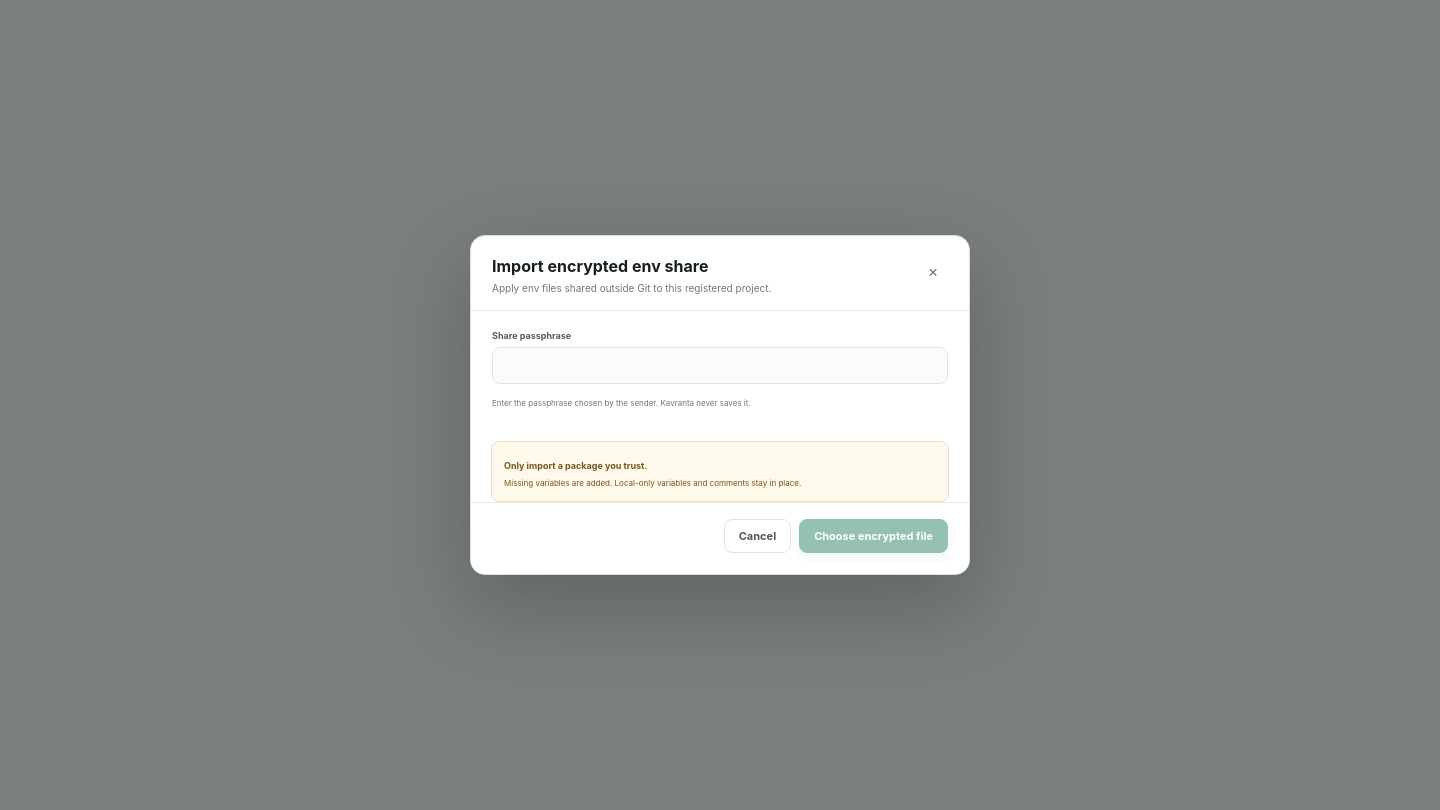
Test: ImportEnvModal › reveals only the requested conflict side and can remap an incoming file
The width and height of the screenshot is (1440, 810).
Type "fake-team-passphrase-2026" into the password field labelled "Share passphrase". click: coordinates (720, 366)
box: [492,347,948,384]
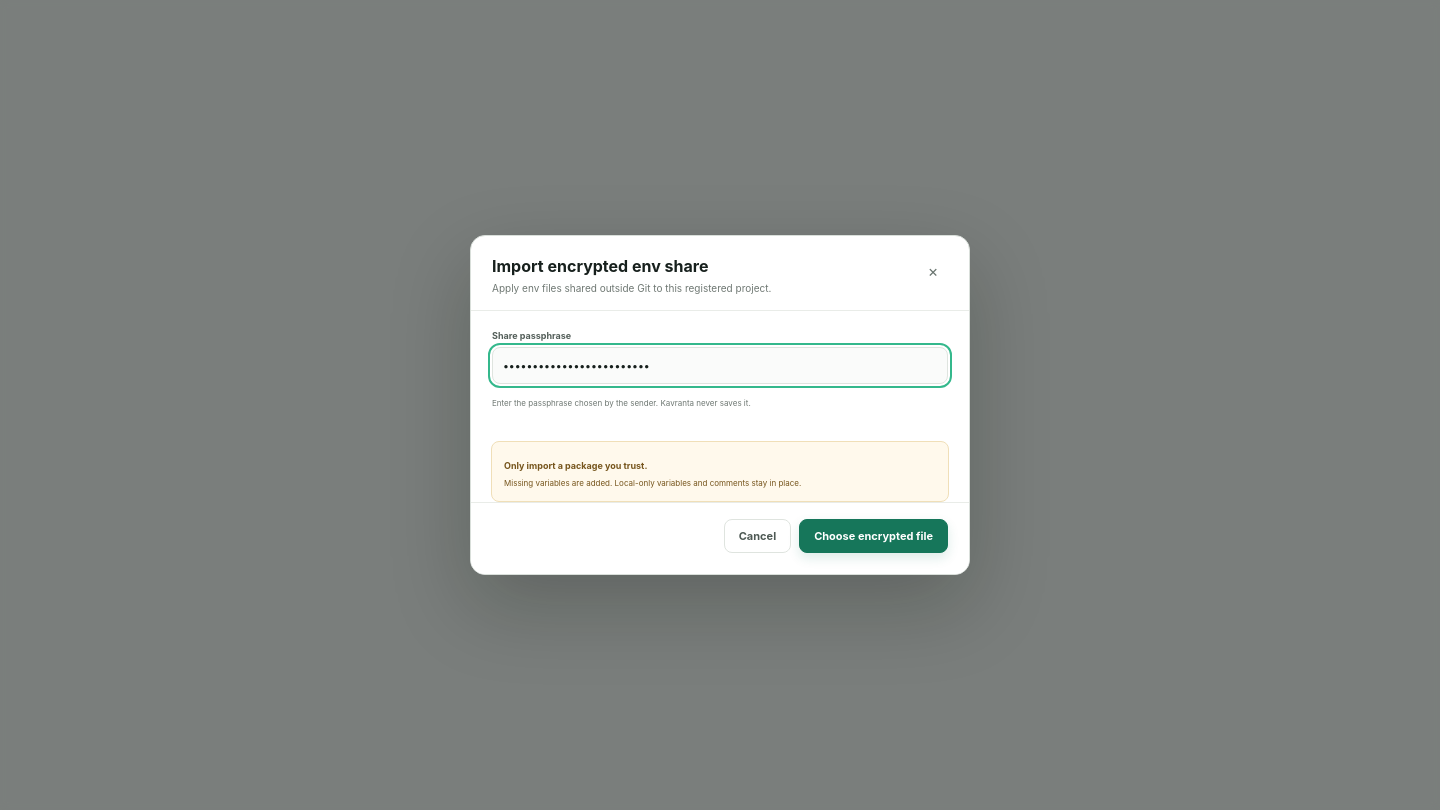
Click the button "Choose encrypted file". click: coordinates (874, 536)
box: [799,519,948,553]
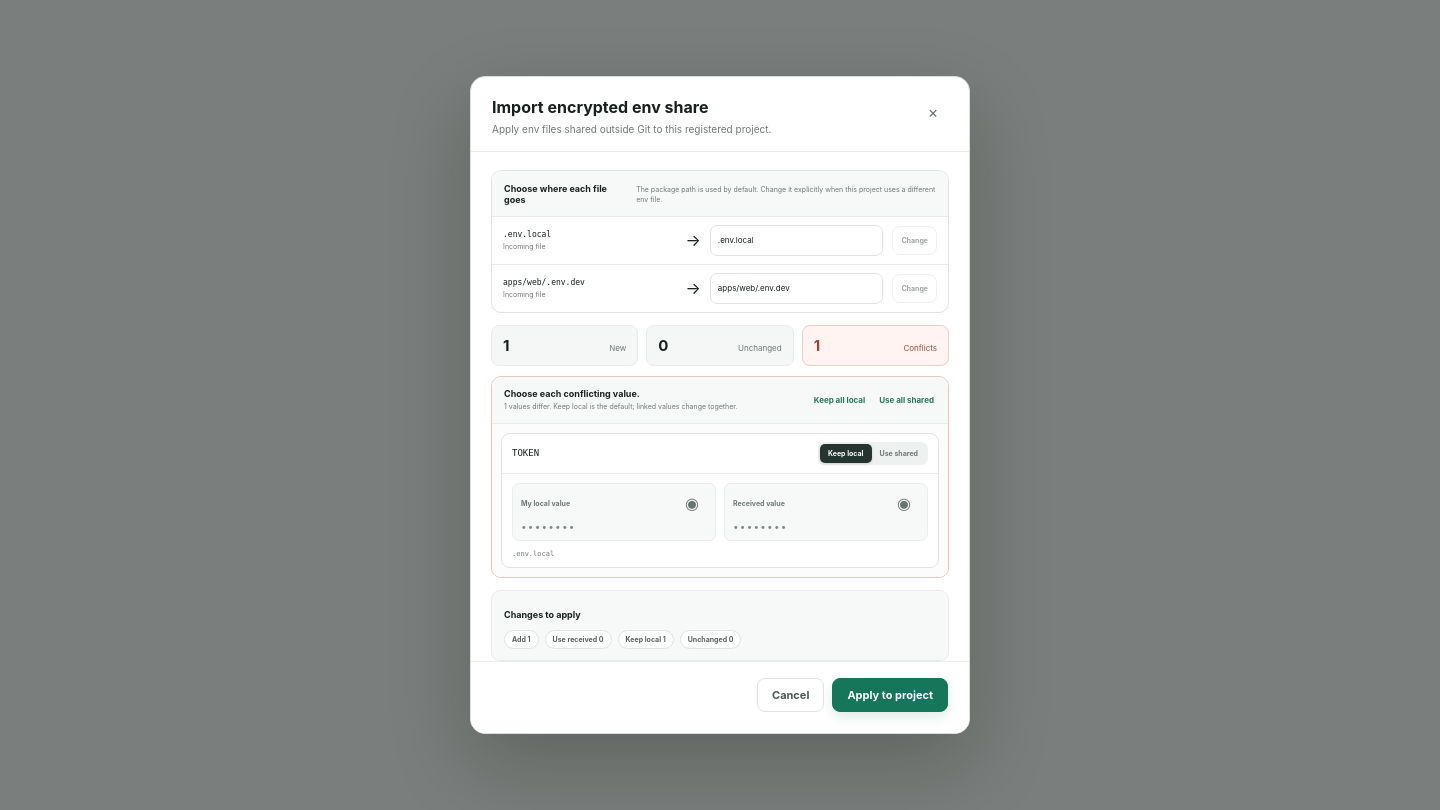
Click the button named "Reveal my local value". click: coordinates (692, 503)
box: [677,492,707,515]
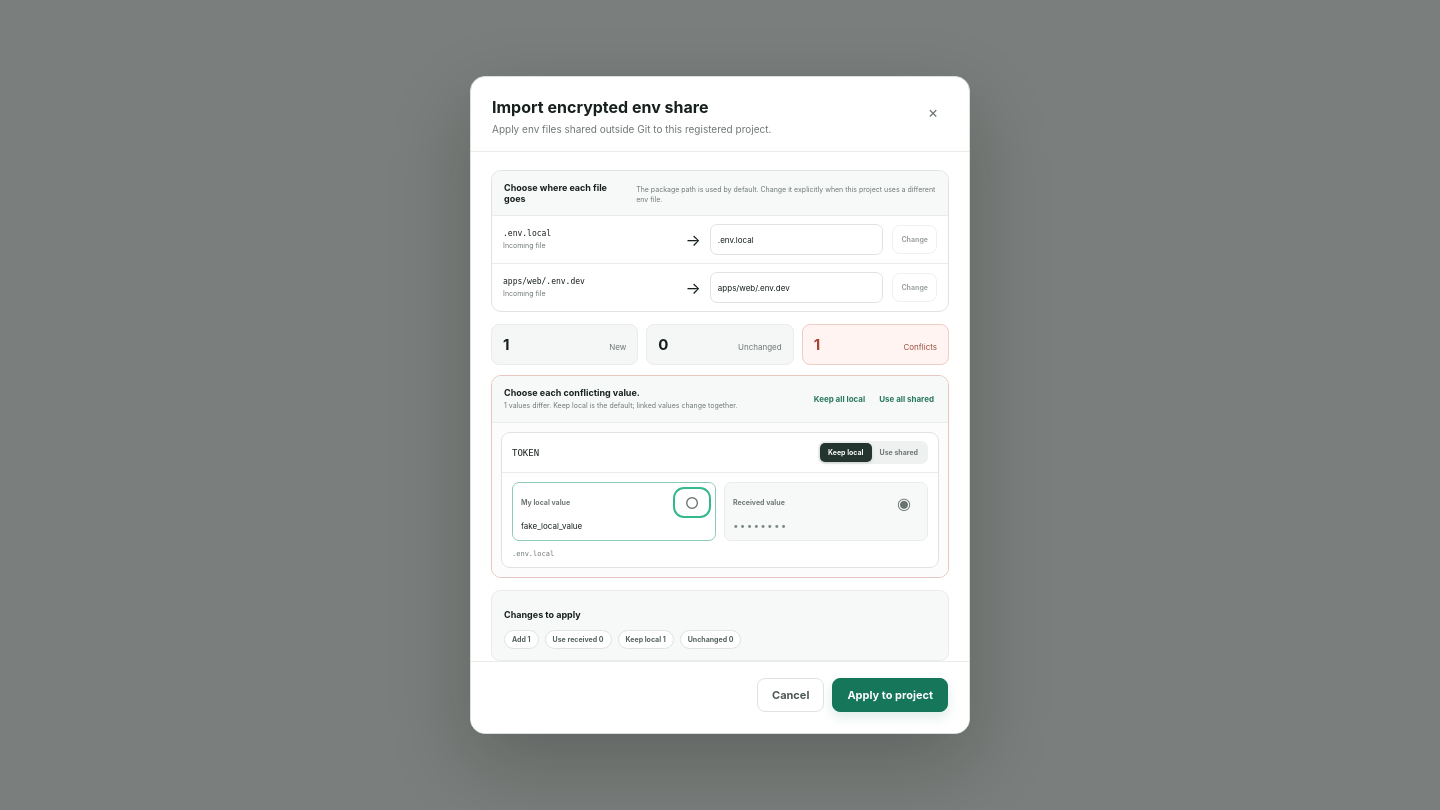
Expected: the text "fake_local_value" is shown, [521,521,582,531]
Replace the text in the field named "Target file for .env.local" with ".env.development". click: coordinates (797, 240)
box: [710,224,883,255]
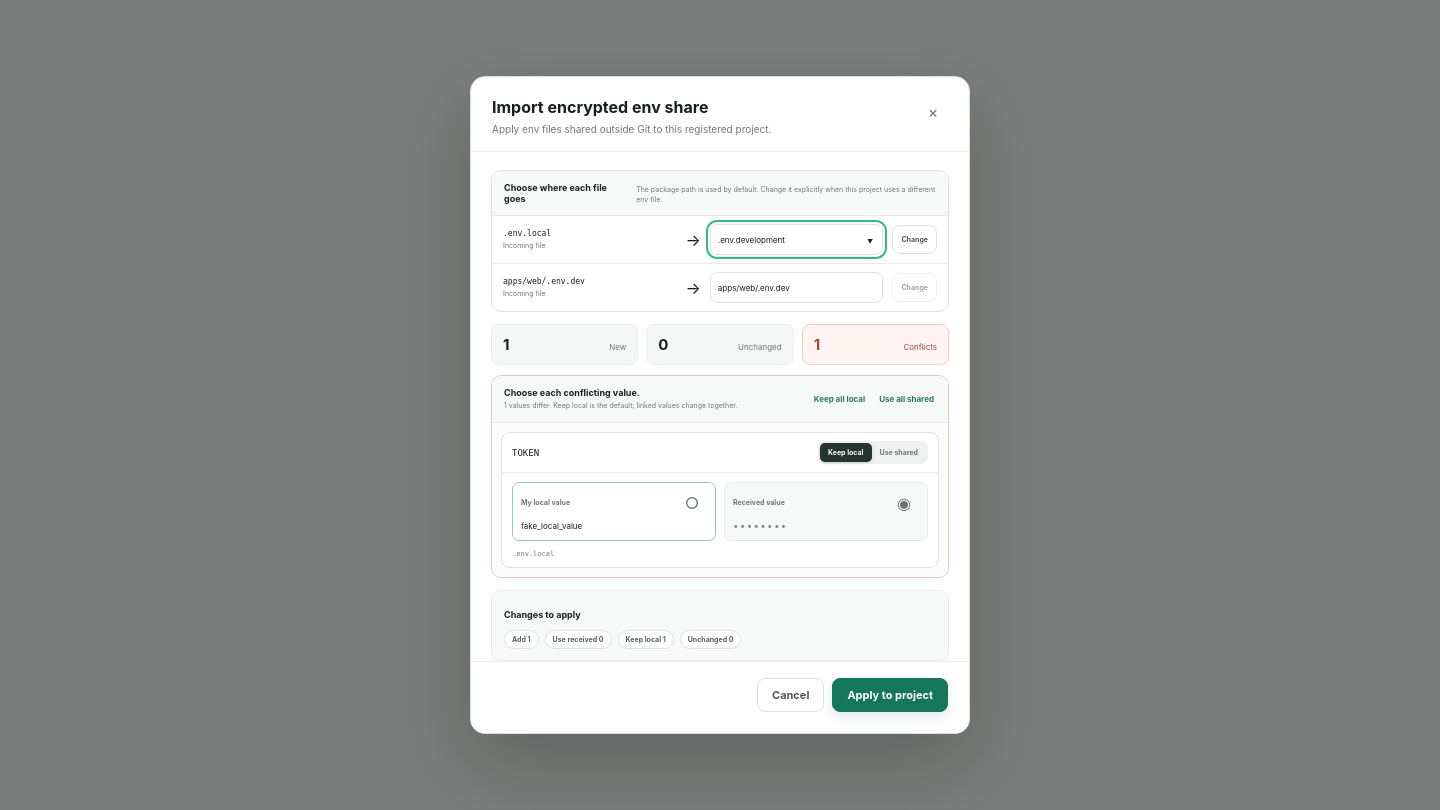
Click the 1st button "Change". click: coordinates (915, 240)
box: [892,225,937,254]
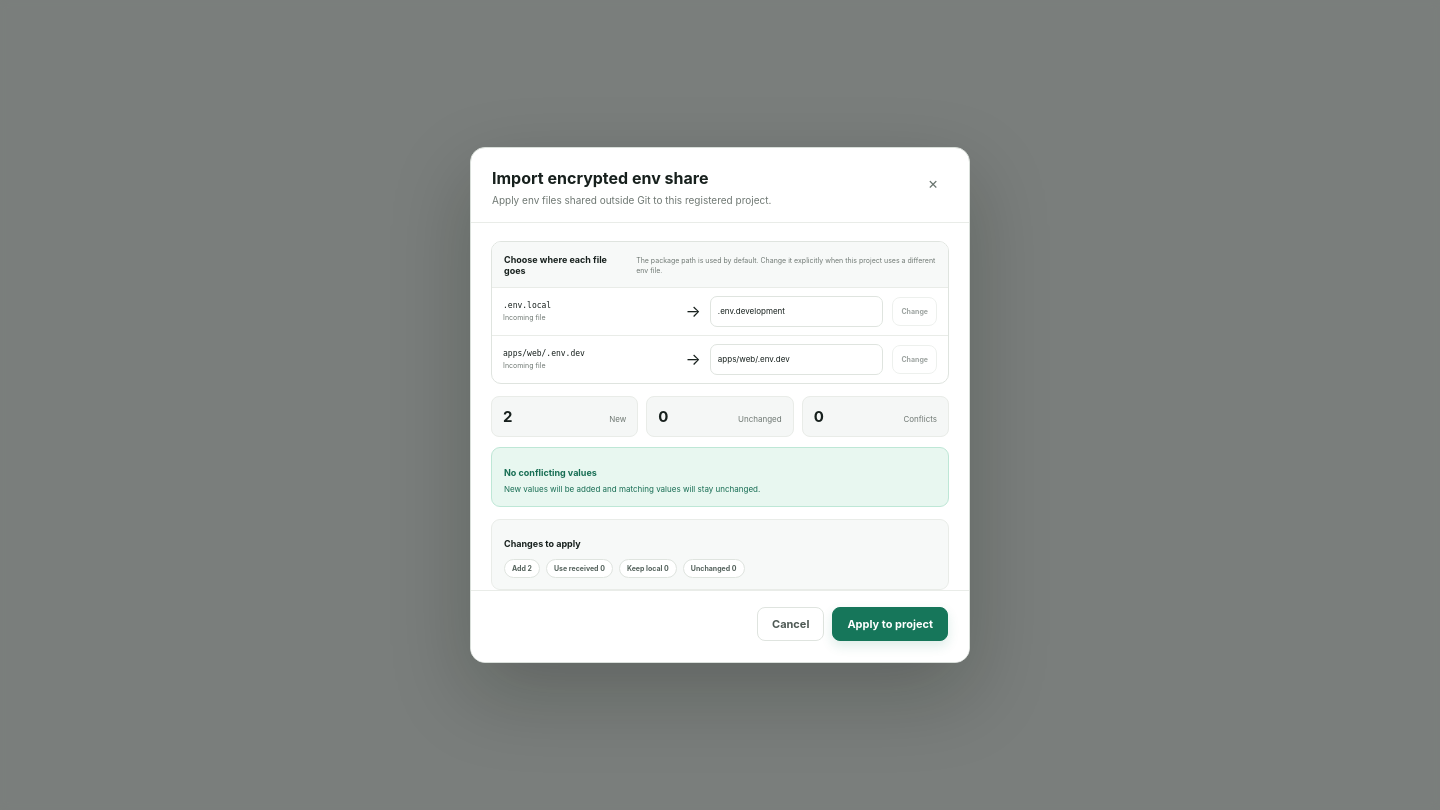
Expected: the text "No conflicting values" is shown, [504,467,597,478]
